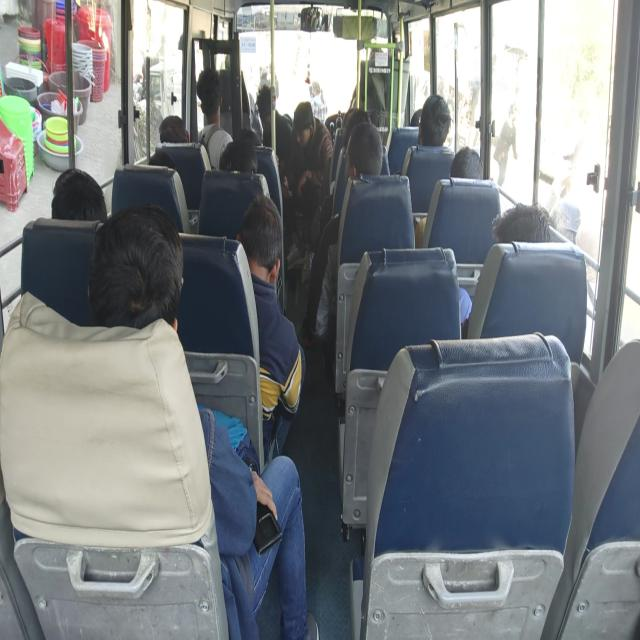person: (88, 202, 320, 638), (235, 193, 306, 466), (301, 121, 384, 346), (459, 201, 551, 337), (418, 146, 484, 330), (289, 101, 333, 214), (256, 83, 294, 198), (196, 67, 233, 170), (218, 137, 270, 199), (51, 167, 107, 222), (492, 202, 550, 244), (344, 121, 383, 181), (493, 103, 518, 186), (417, 93, 452, 147), (219, 138, 258, 173), (450, 146, 483, 180), (158, 115, 189, 144), (309, 80, 327, 122)
